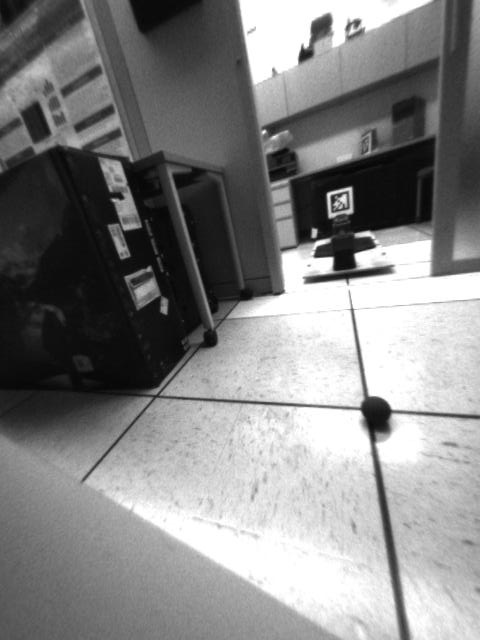dogtoy: (356, 390, 398, 437)
